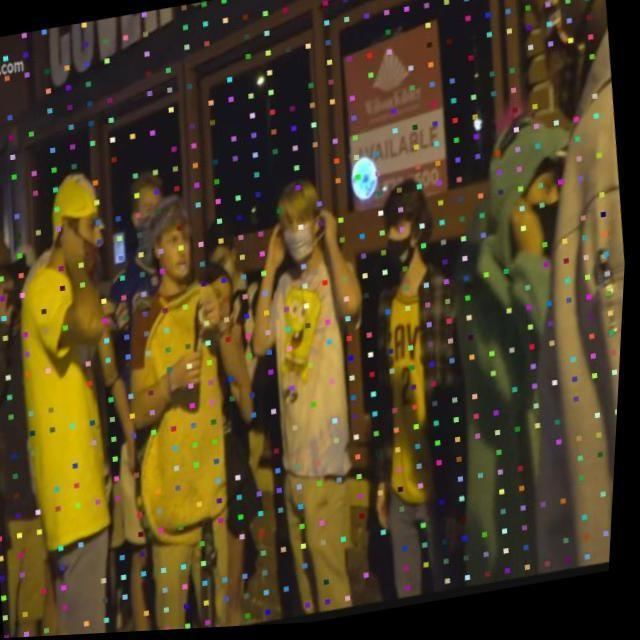hairnet: (78, 220, 108, 276)
